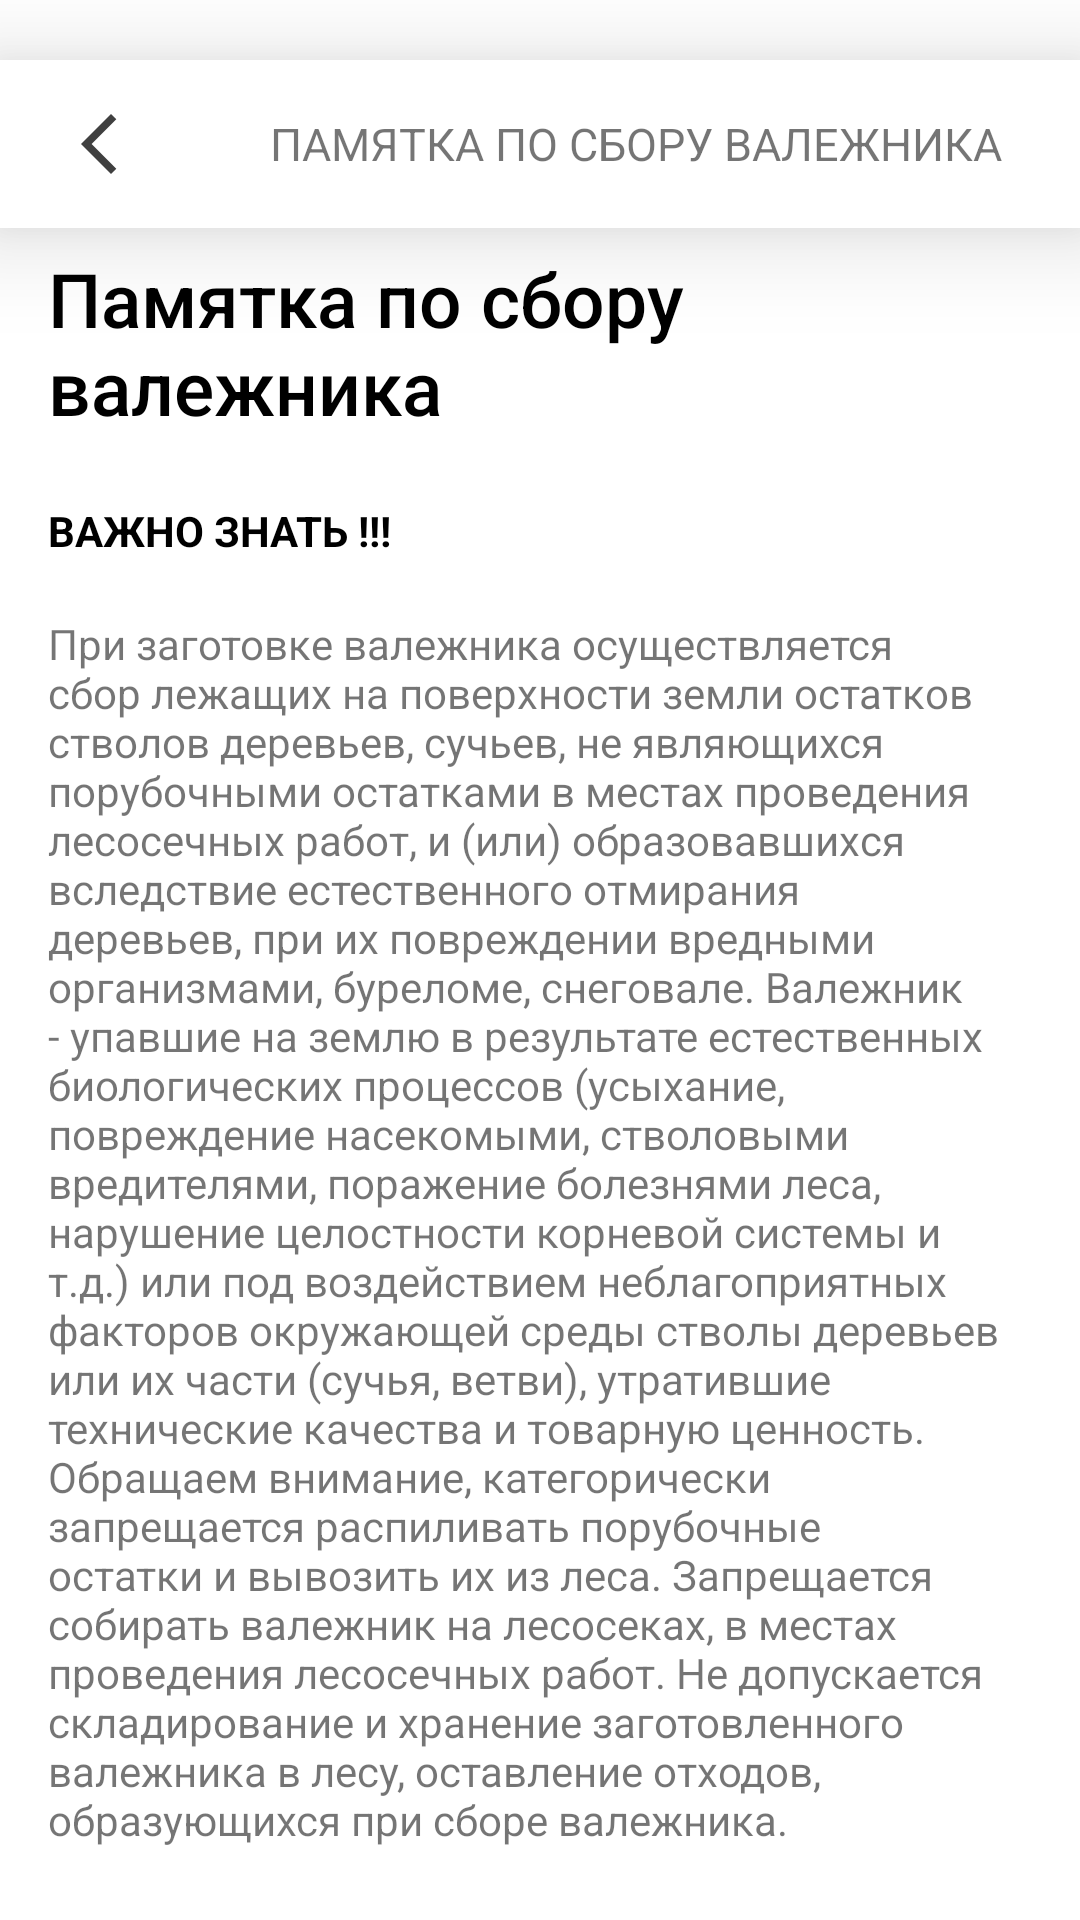

Where icons sit on this 1080px×1920px app screen, as (x1, y1, x2, y2):
back arrow: (81, 114, 116, 174)
